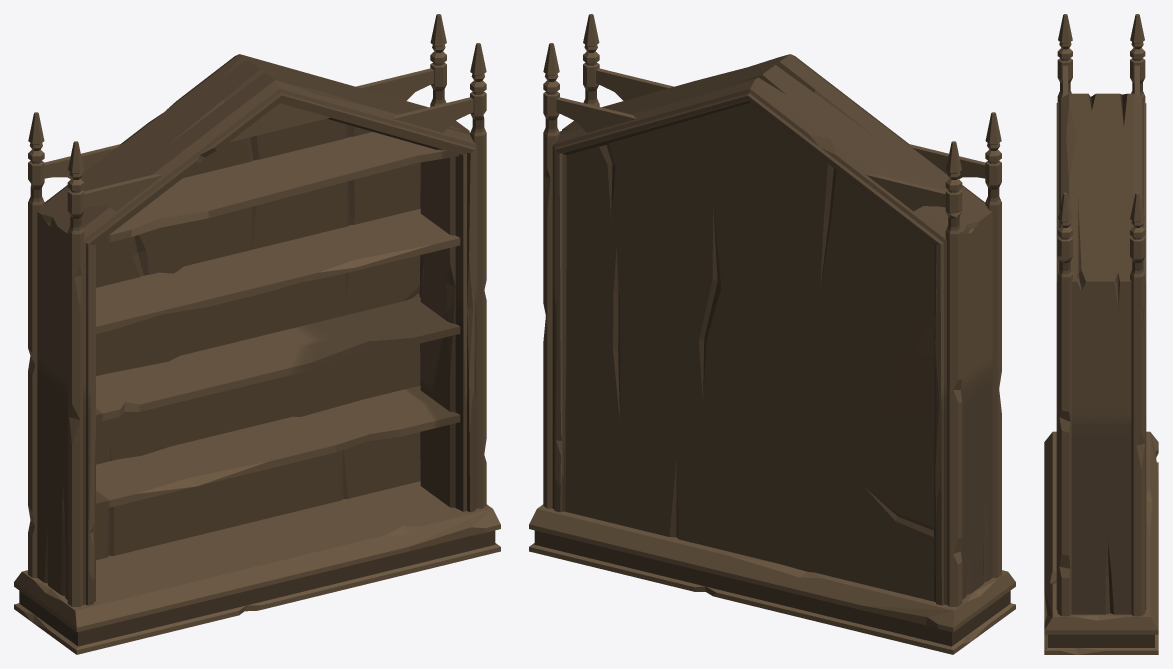
The model's file is crypt_bookshelf_d.gltf.
3 renders of one model, left to right at view 1: azimuth 30°, elevation 25°; view 2: azimuth 150°, elevation 25°; view 3: azimuth 270°, elevation 25°, orthographic. The views are drawn at different scales.
Visible parts, largest first — view 1: crypt_bookshelf_d; view 2: crypt_bookshelf_d; view 3: crypt_bookshelf_d.
Boxes of the visible parts, x1,y1,x2,y2 form: crypt_bookshelf_d: [14, 14, 500, 654]; crypt_bookshelf_d: [529, 14, 1015, 654]; crypt_bookshelf_d: [1044, 14, 1158, 654].
Bounding box in the file's own units: 2.51 × 2.91 × 0.643.
Materials: 1 (1 with a texture image).
